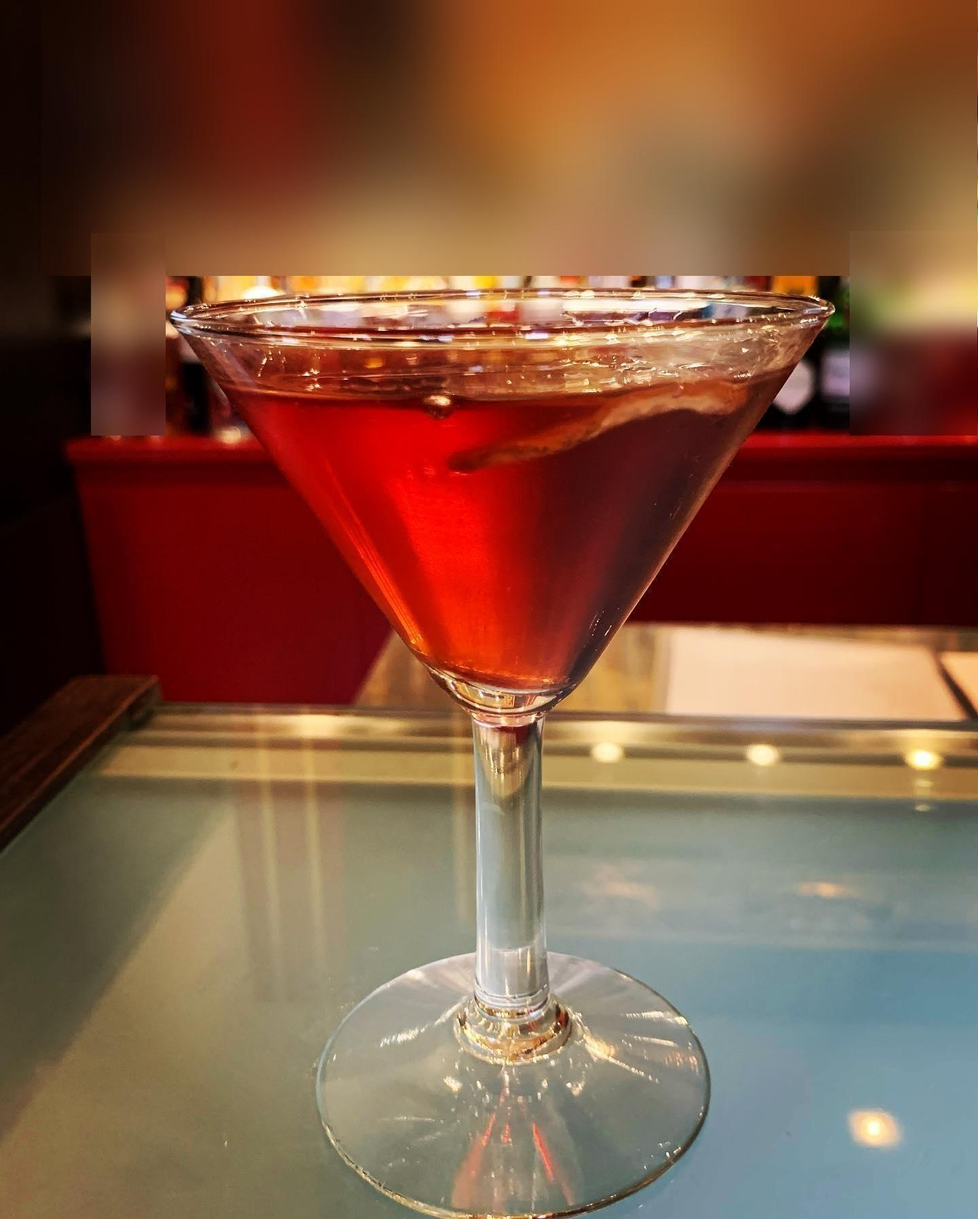glass-wine: (168, 283, 838, 1219)
